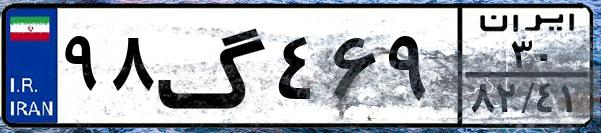0: (537, 27, 568, 80)
1: (560, 70, 590, 125)
2: (495, 70, 520, 125)
3: (508, 27, 537, 80)
4: (270, 28, 330, 110), (535, 70, 560, 125)
6: (330, 28, 385, 110)
8: (110, 28, 156, 98), (470, 70, 495, 125)
9: (385, 28, 445, 110), (57, 26, 110, 100)
گ: (156, 12, 270, 120)
